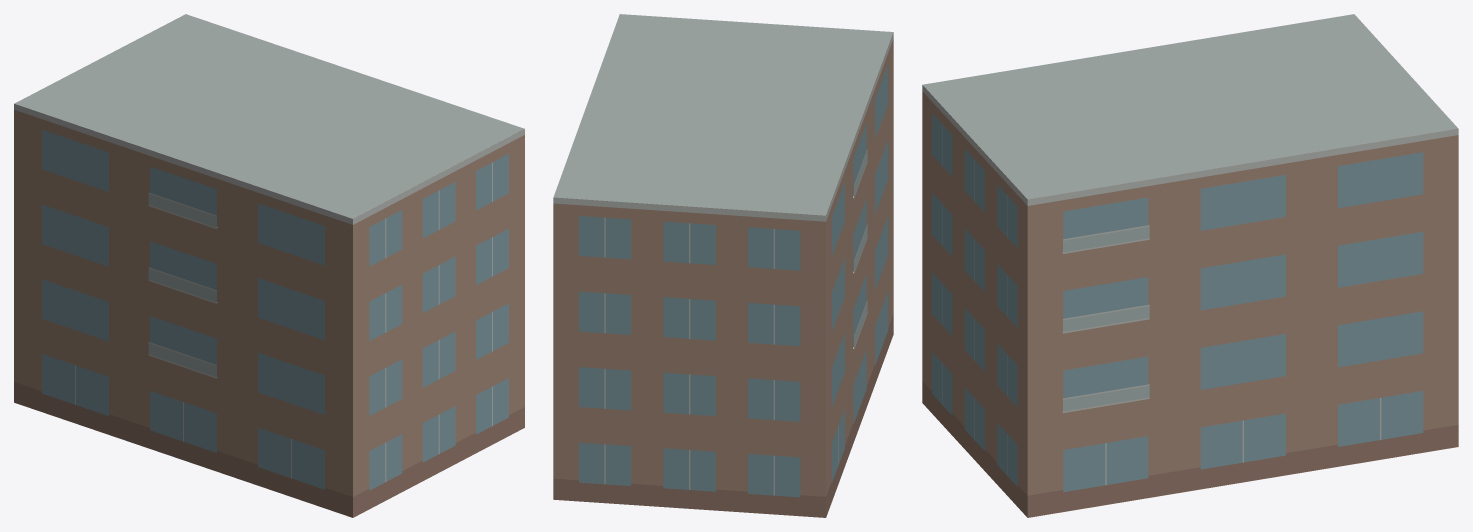
File: survey-upis-32684187.glb
The picture shows the model from 3 angles, left to right: view 1: azimuth 30°, elevation 25°; view 2: azimuth 150°, elevation 25°; view 3: azimuth 270°, elevation 25°; orthographic projection. The views are drawn at different scales.
Parts seen in each view (by area): view 1: survey-upis-32684187.tmp; view 2: survey-upis-32684187.tmp; view 3: survey-upis-32684187.tmp.
Boxes of the visible parts, <box> form: survey-upis-32684187.tmp: <box>14,14,524,517</box>; survey-upis-32684187.tmp: <box>553,14,893,517</box>; survey-upis-32684187.tmp: <box>922,14,1458,517</box>.
Bounding box in the file's own units: 15.27 × 12.2 × 18.64.
